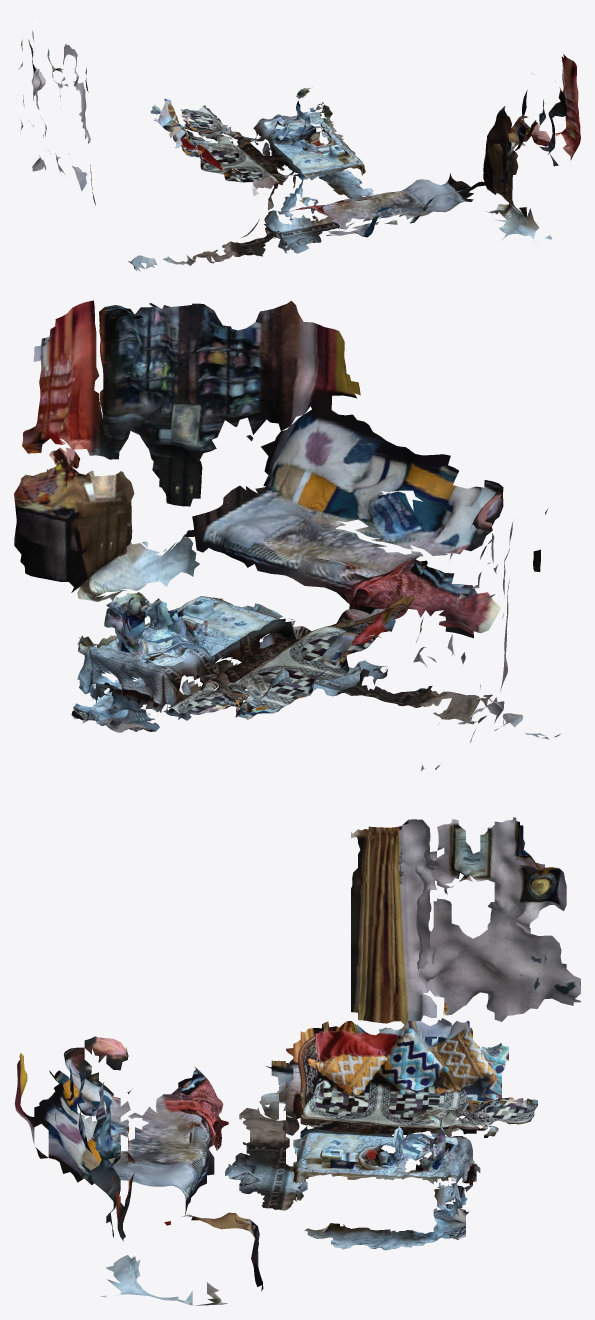
File: 140491-Living-tex.glb
3 renders of one model, top to bottom at view 1: azimuth 30°, elevation 25°; view 2: azimuth 150°, elevation 25°; view 3: azimuth 270°, elevation 25°, orthographic. The views are drawn at different scales.
Parts seen in each view (by area): view 1: Node; view 2: Node; view 3: Node.
Boxes of the visible parts, x1=… form: Node: x1=18, y1=31, x2=580, y2=271; Node: x1=14, y1=300, x2=560, y2=770; Node: x1=14, y1=817, x2=580, y2=1305.
Size of the model in its own units: 5.91 by 2.73 by 5.24.
1 material, 1 textured.
